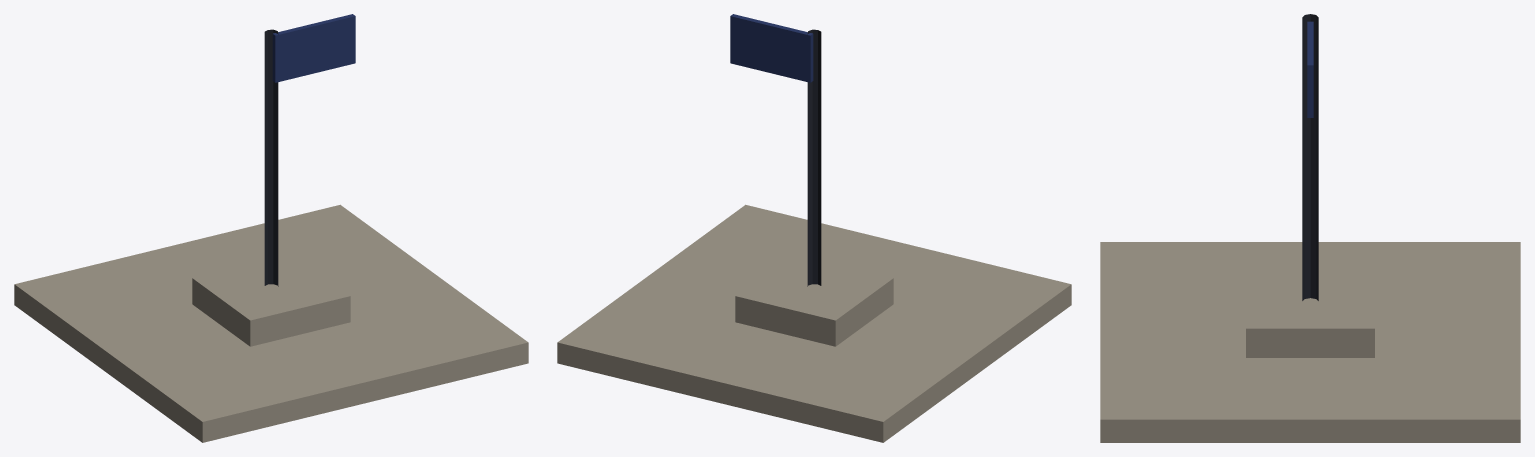
File: flag-low.glb
3 views of the same model, side by side, from view 1: azimuth 30°, elevation 25°; view 2: azimuth 150°, elevation 25°; view 3: azimuth 270°, elevation 25° (orthographic). The views are drawn at different scales.
Size of the model in its own units: 26 by 23 by 26.
